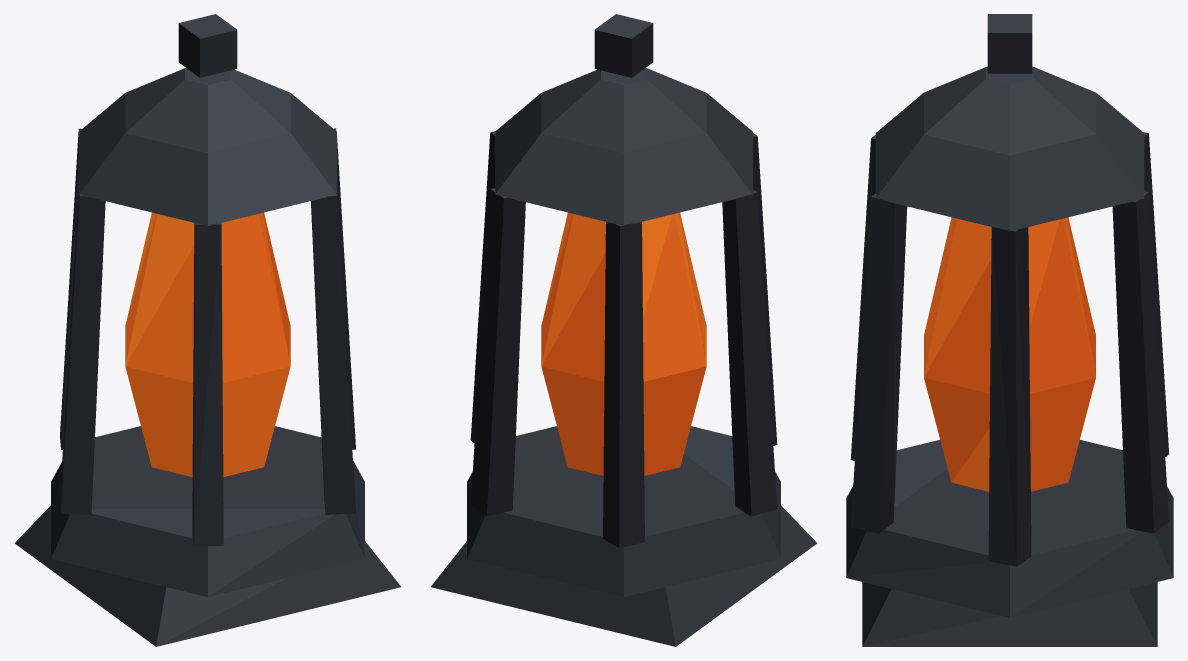
Rendered from lantern_standing.gltf.
3 views of the same model, side by side, from view 1: azimuth 30°, elevation 25°; view 2: azimuth 150°, elevation 25°; view 3: azimuth 270°, elevation 25° (orthographic). The views are drawn at different scales.
Parts seen in each view (by area): view 1: lantern_standing; view 2: lantern_standing; view 3: lantern_standing.
Part boxes in pixels (bbox=[...]): lantern_standing: bbox=[14, 14, 400, 646]; lantern_standing: bbox=[431, 14, 817, 646]; lantern_standing: bbox=[846, 14, 1173, 646].
Bounding box in the file's own units: 0.589 × 0.965 × 0.5101.
Materials: 2 (2 with a texture image).
